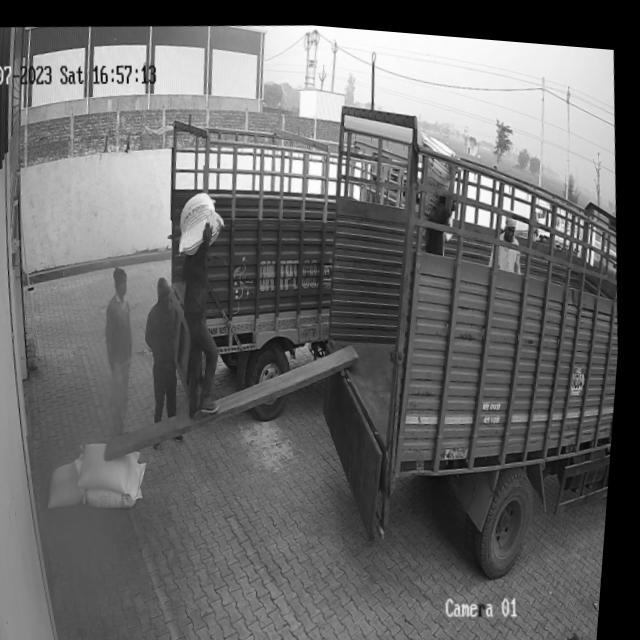sack: (79, 434, 150, 496), (85, 454, 156, 509), (176, 183, 231, 254), (49, 456, 95, 510)
